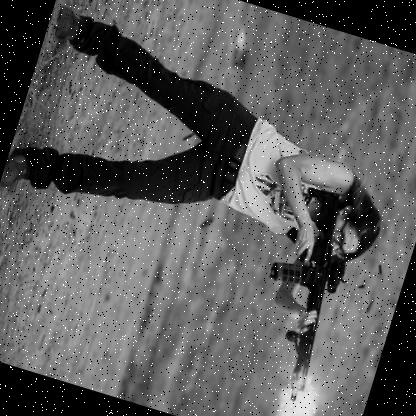rifle: (229, 177, 377, 411)
